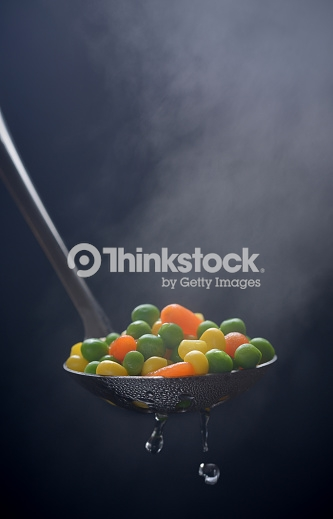boiled peas: (132, 309, 172, 346), (203, 350, 258, 367)
